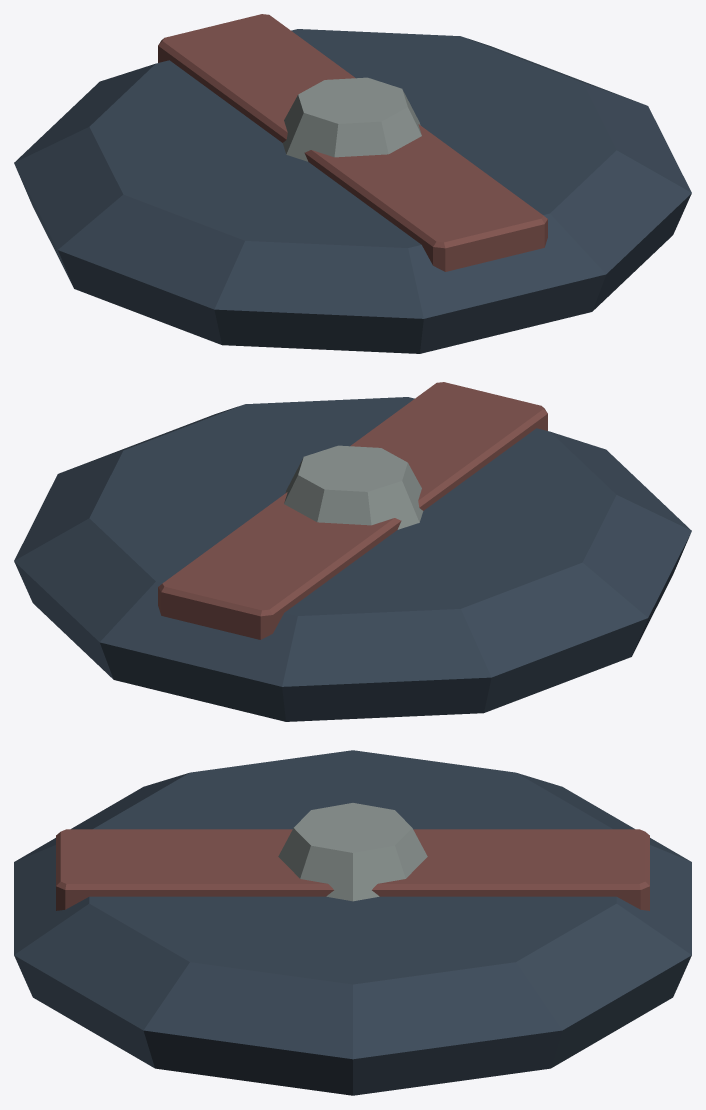
The model's file is resting-shield.glb.
3 renders of one model, top to bottom at view 1: azimuth 30°, elevation 25°; view 2: azimuth 150°, elevation 25°; view 3: azimuth 270°, elevation 25°, orthographic. The views are drawn at different scales.
Parts seen in each view (by area): view 1: resting-shield__body; view 2: resting-shield__body; view 3: resting-shield__body.
Part boxes in pixels (x1,y1,x2,y2): resting-shield__body: [14, 14, 691, 353]; resting-shield__body: [14, 382, 691, 721]; resting-shield__body: [14, 750, 691, 1095].
Size of the model in its own units: 0.36 by 0.07 by 0.3424.
